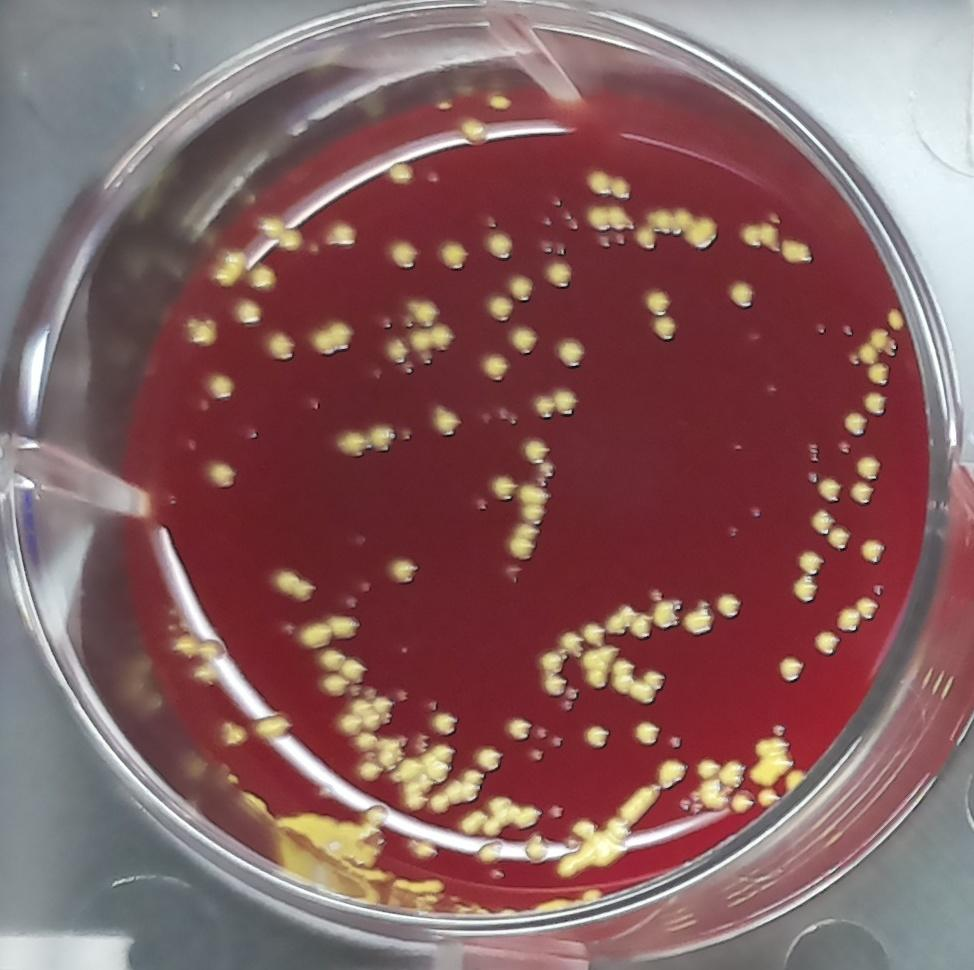mluteus: (553, 781, 659, 880), (380, 297, 459, 377), (637, 200, 721, 259), (677, 755, 747, 817), (751, 722, 795, 790), (305, 313, 359, 364), (336, 693, 394, 740), (475, 208, 516, 262), (808, 506, 853, 555), (265, 566, 317, 608), (261, 322, 301, 373), (582, 160, 634, 199), (539, 240, 577, 292), (533, 381, 581, 420), (605, 603, 653, 641), (582, 642, 622, 687), (585, 200, 633, 235), (198, 455, 242, 493), (249, 707, 294, 744), (420, 741, 458, 784), (179, 312, 221, 349), (523, 433, 557, 478), (321, 217, 362, 254), (740, 217, 780, 254), (540, 675, 580, 712), (332, 425, 372, 462), (519, 479, 552, 523), (650, 588, 682, 632), (724, 275, 761, 313), (430, 401, 465, 440), (203, 366, 239, 403), (681, 600, 716, 638), (383, 553, 422, 587), (507, 522, 540, 562), (428, 700, 463, 737), (554, 333, 588, 371), (780, 235, 817, 269), (508, 322, 543, 357), (773, 652, 809, 686), (366, 417, 398, 455), (328, 609, 363, 643), (505, 715, 546, 744), (627, 715, 663, 748), (231, 294, 265, 328), (296, 619, 332, 650), (610, 656, 637, 697), (715, 589, 748, 622), (352, 754, 386, 786), (313, 671, 349, 701), (642, 284, 674, 317), (553, 626, 585, 659), (811, 472, 842, 506), (657, 758, 689, 790), (481, 350, 512, 383), (459, 114, 490, 147), (793, 546, 828, 575), (867, 327, 899, 358), (790, 574, 821, 606), (811, 627, 844, 657), (648, 315, 679, 346), (834, 605, 864, 636), (472, 744, 503, 774), (859, 536, 889, 566), (861, 390, 892, 419), (491, 471, 519, 503), (855, 453, 884, 483), (534, 647, 565, 675), (316, 647, 347, 675), (580, 618, 609, 647), (582, 721, 612, 749), (865, 362, 894, 390), (842, 410, 871, 438), (629, 678, 657, 706), (848, 479, 875, 508), (341, 656, 367, 685), (854, 595, 881, 622), (642, 665, 668, 693), (855, 342, 882, 366), (884, 306, 908, 332)
